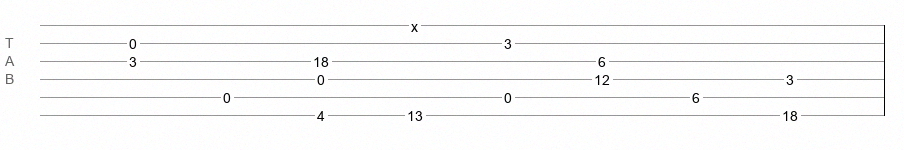0: (129, 36, 137, 46), (223, 90, 231, 100), (317, 72, 325, 82), (504, 90, 512, 100)
12: (594, 72, 610, 82)
13: (407, 108, 423, 118)
18: (313, 54, 329, 64), (782, 108, 798, 118)
3: (129, 54, 137, 64), (504, 36, 512, 46), (786, 72, 794, 82)
4: (317, 108, 325, 118)
6: (598, 54, 606, 64), (692, 90, 700, 100)
x: (411, 19, 418, 27)
